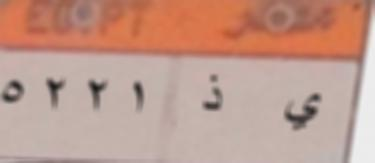1: (125, 76, 152, 120)
2: (43, 73, 71, 117), (86, 74, 112, 118)
5: (0, 73, 28, 110)
yaa: (282, 86, 323, 138)
zaal: (198, 72, 228, 124)
